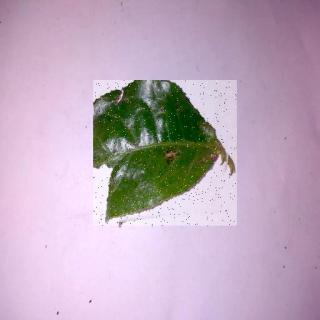Bird Eye Spot: (94, 82, 238, 228)
